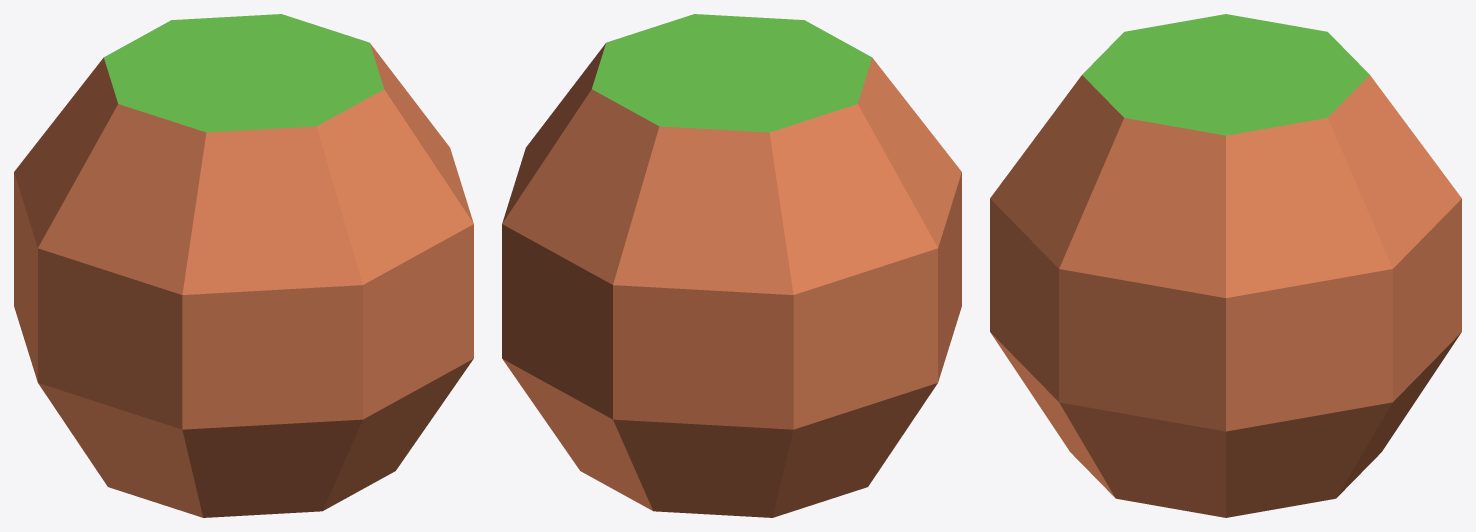
File: rock_smallH.glb
The picture shows the model from 3 angles, left to right: view 1: azimuth 30°, elevation 25°; view 2: azimuth 150°, elevation 25°; view 3: azimuth 270°, elevation 25°; orthographic projection.
Visible parts, largest first — view 1: rock_smallH; view 2: rock_smallH; view 3: rock_smallH.
Part boxes in pixels (x1=…): rock_smallH: x1=14, y1=14, x2=473, y2=517; rock_smallH: x1=502, y1=14, x2=961, y2=517; rock_smallH: x1=990, y1=14, x2=1461, y2=517.
Size of the model in its own units: 0.4618 by 0.4074 by 0.4618.
